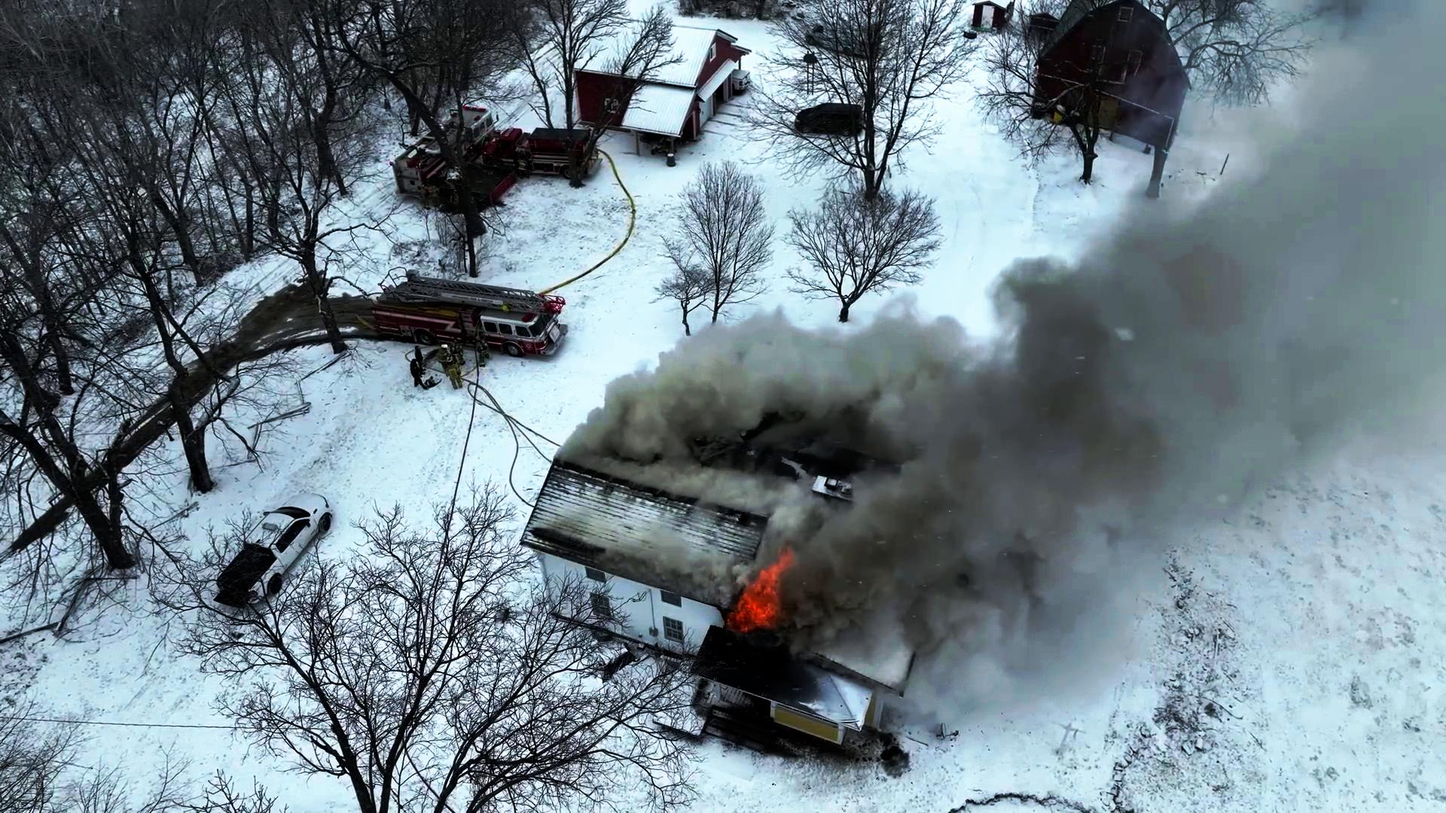fire: (731, 572, 788, 642)
smoke: (1017, 332, 1186, 496), (786, 403, 900, 633), (1228, 251, 1382, 392), (625, 366, 766, 505)
